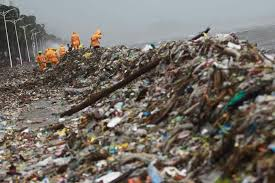garbage: (73, 52, 273, 183), (162, 40, 274, 183), (5, 130, 272, 183)
